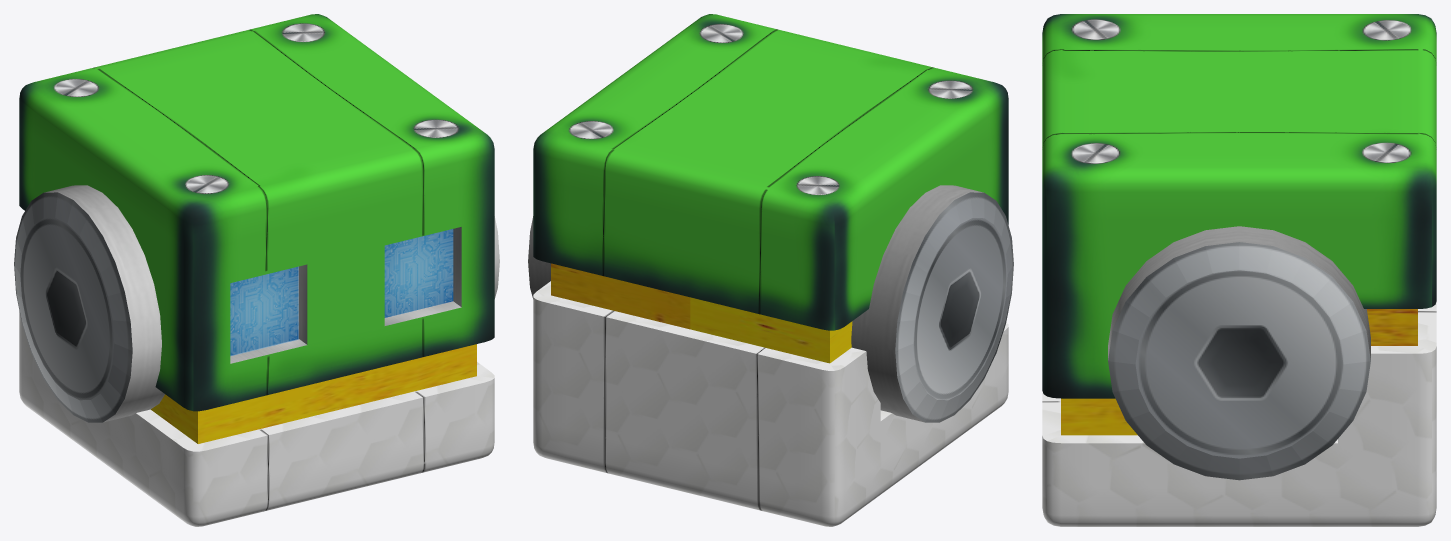
File: HeadCore_Green.fbx
3 renders of one model, left to right at view 1: azimuth 30°, elevation 25°; view 2: azimuth 150°, elevation 25°; view 3: azimuth 270°, elevation 25°, orthographic. The views are drawn at different scales.
Visible parts, largest first — view 1: Head_Core; view 2: Head_Core; view 3: Head_Core.
Boxes of the visible parts, box(x1,y1,x2,y2) form: Head_Core: box(14, 14, 499, 526); Head_Core: box(528, 14, 1013, 526); Head_Core: box(1042, 14, 1436, 526).
Size of the model in its own units: 258 by 210 by 210.
1 material, 1 textured.
